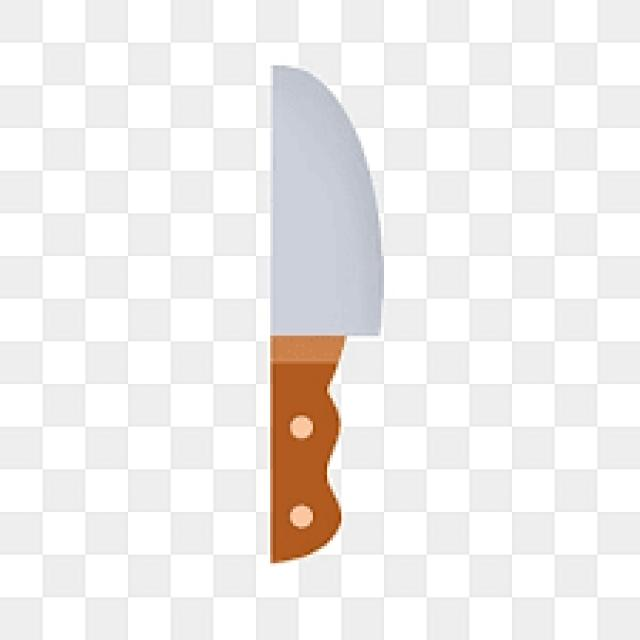Knife: (267, 63, 384, 563)
